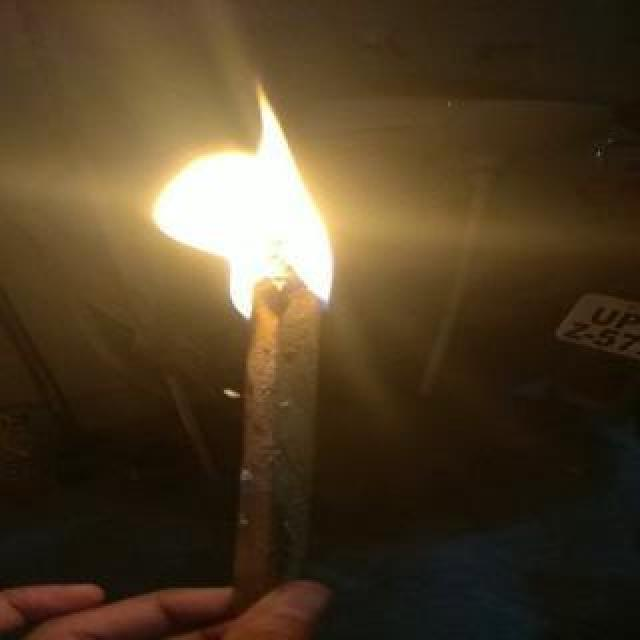Fire: (150, 82, 332, 321)
